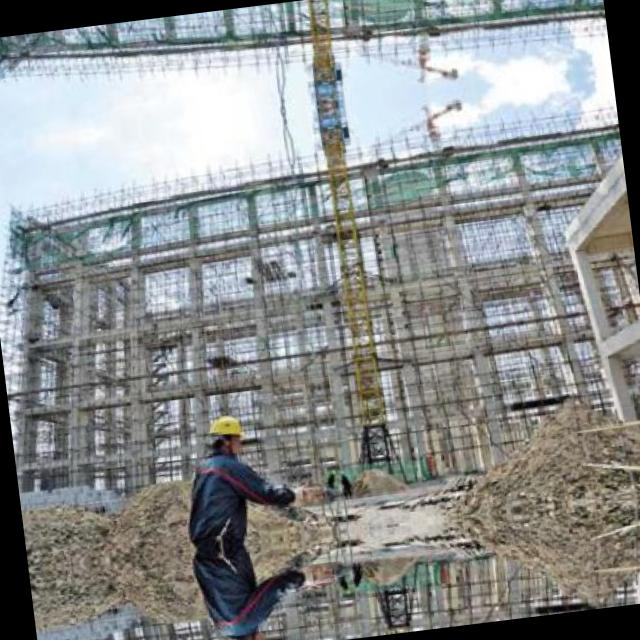helmet: (203, 407, 248, 455), (230, 629, 273, 640)
